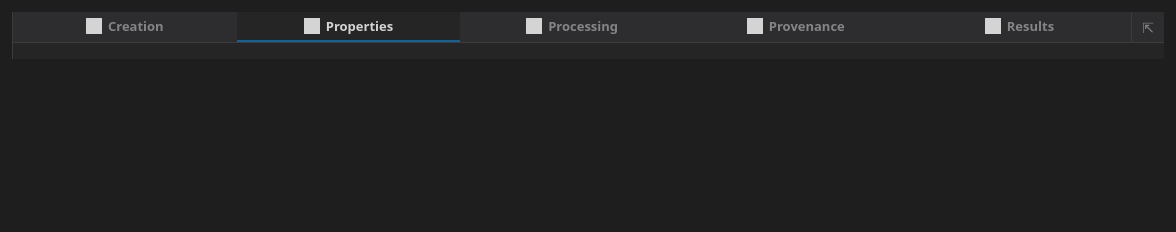
Test: SidePanel processing editor › shows why a restored processing cannot be applied again
The image size is (1176, 232).
Click the tab "Processing" at (572,27), box [460,12,684,42]
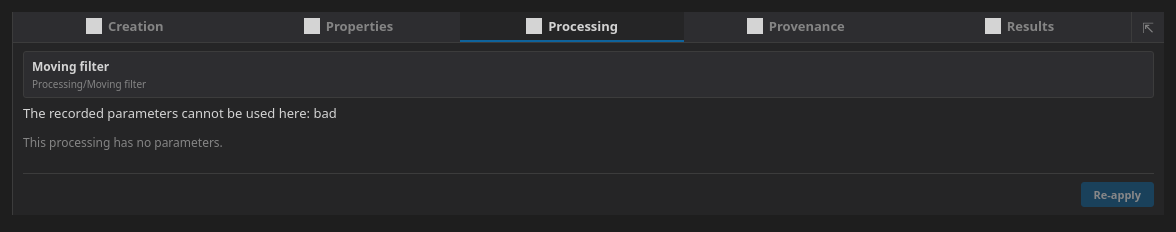
Result: the text "The recorded parameters cannot be used here: bad" is shown at [23,104,337,122]
Result: the button "Re-apply" is disabled at [1080,182,1154,207]
